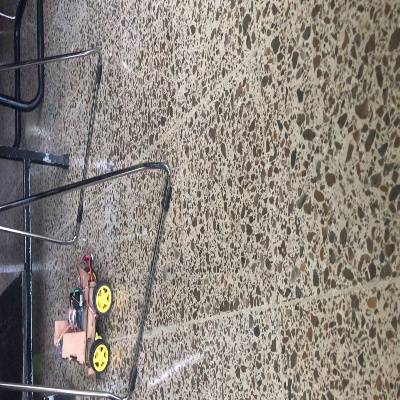Robot: (53, 265, 112, 374)
